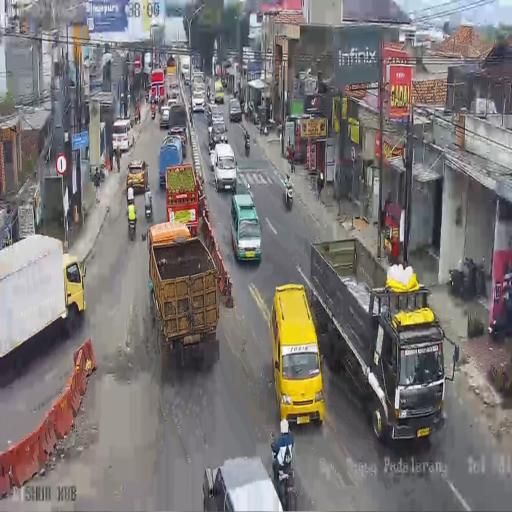3: (2, 230, 87, 382), (148, 225, 222, 373), (164, 162, 200, 236), (112, 118, 134, 155), (150, 69, 166, 104), (192, 71, 205, 98), (180, 61, 192, 84), (167, 82, 179, 104), (166, 54, 176, 76)
car: (270, 283, 322, 428), (229, 192, 261, 262), (213, 143, 237, 193), (126, 158, 148, 194), (168, 125, 187, 158), (210, 114, 226, 137), (228, 98, 242, 121), (214, 79, 224, 103), (159, 106, 170, 127)
truck: (284, 176, 294, 210), (206, 86, 214, 103), (244, 140, 250, 158), (276, 122, 282, 140)
